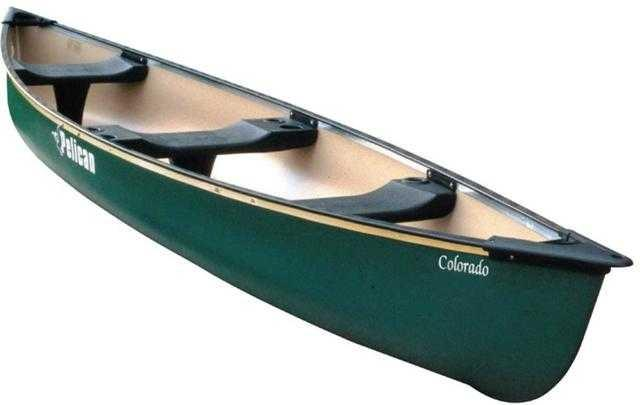kayak: (3, 12, 634, 399)
